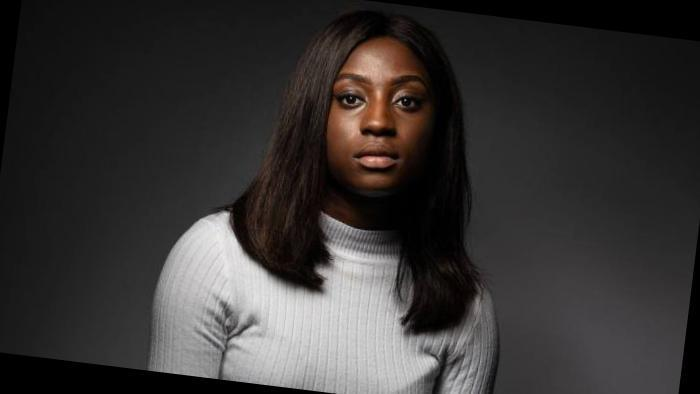Sober: (323, 46, 428, 180)
